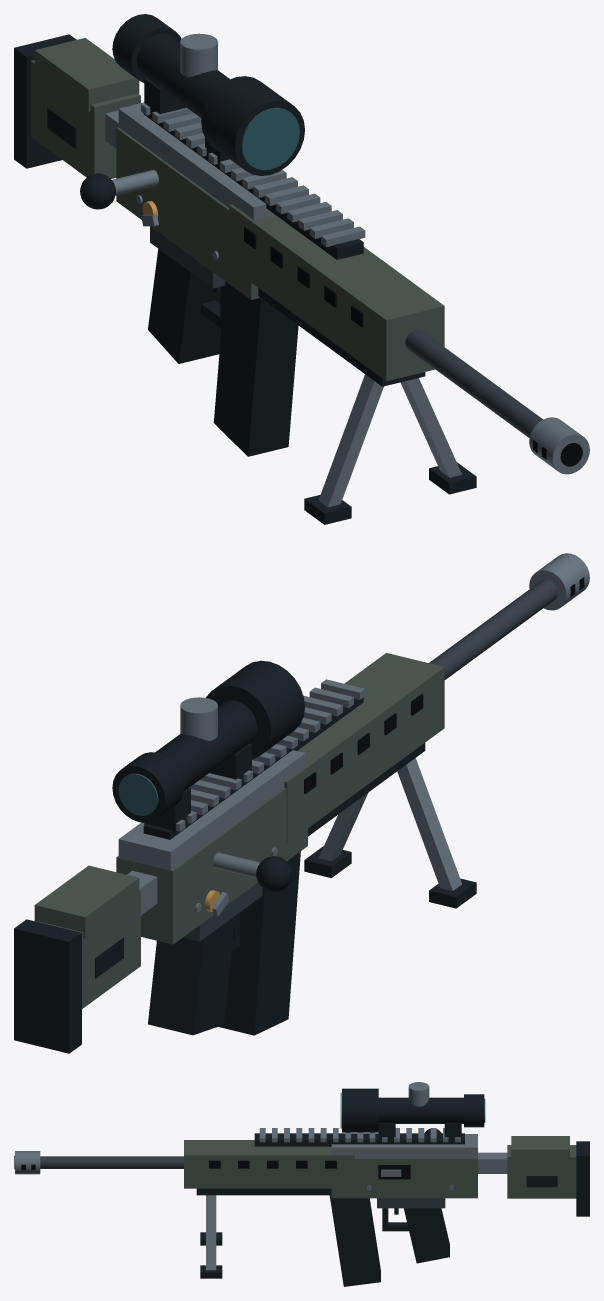
The model's file is FSA_WPN_SR_001_Longwatch.glb.
The picture shows the model from 3 angles, top to bottom: view 1: azimuth 30°, elevation 25°; view 2: azimuth 150°, elevation 25°; view 3: azimuth 270°, elevation 25°; orthographic projection. The views are drawn at different scales.
Parts seen in each view (by area): view 1: Handguard, MagazineBody, Receiver, GripCore, StockBody, ScopeObjective, StockCheek, UpperReceiver, Barrel, ScopeTube, BipodLeg_-1, ButtPad (+14 smaller); view 2: Handguard, Receiver, MagazineBody, ButtPad, GripCore, UpperReceiver, ScopeObjective, StockCheek, ScopeTube, StockBody, Barrel, BipodLeg_-1 (+15 smaller); view 3: Handguard, Receiver, MagazineBody, StockBody, ScopeTube, UpperReceiver, GripCore, Barrel, RailBase, ScopeObjective, StockCheek, HandguardUnder (+11 smaller).
Boxes of the visible parts, left/top/right/bottom form: Handguard: left=229, top=204, right=444, bottom=381; MagazineBody: left=213, top=281, right=298, bottom=456; Receiver: left=116, top=127, right=259, bottom=299; GripCore: left=148, top=249, right=221, bottom=363; StockBody: left=31, top=60, right=140, bottom=178; ScopeObjective: left=201, top=76, right=304, bottom=175; StockCheek: left=34, top=38, right=139, bottom=111; UpperReceiver: left=118, top=102, right=274, bottom=219; Barrel: left=405, top=329, right=542, bottom=437; ScopeTube: left=136, top=33, right=229, bottom=118; BipodLeg_-1: left=318, top=374, right=383, bottom=507; ButtPad: left=14, top=34, right=76, bottom=168; Handguard: left=284, top=653, right=444, bottom=843; Receiver: left=116, top=787, right=307, bottom=944; MagazineBody: left=218, top=851, right=300, bottom=1035; ButtPad: left=14, top=919, right=81, bottom=1053; GripCore: left=148, top=916, right=235, bottom=1035; UpperReceiver: left=118, top=750, right=305, bottom=870; ScopeObjective: left=206, top=660, right=304, bottom=759; StockCheek: left=34, top=865, right=139, bottom=939; ScopeTube: left=155, top=700, right=257, bottom=791; StockBody: left=36, top=890, right=140, bottom=1008; Barrel: left=429, top=579, right=557, bottom=679; BipodLeg_-1: left=397, top=758, right=461, bottom=890; Handguard: left=184, top=1140, right=354, bottom=1188; Receiver: left=331, top=1158, right=477, bottom=1198; MagazineBody: left=329, top=1195, right=380, bottom=1286; StockBody: left=507, top=1145, right=576, bottom=1198; ScopeTube: left=378, top=1097, right=463, bottom=1123; UpperReceiver: left=331, top=1134, right=477, bottom=1157; GripCore: left=404, top=1208, right=449, bottom=1263; Barrel: left=40, top=1156, right=183, bottom=1168; RailBase: left=254, top=1133, right=464, bottom=1146; ScopeObjective: left=342, top=1088, right=378, bottom=1132; StockCheek: left=511, top=1136, right=569, bottom=1161; HandguardUnder: left=196, top=1188, right=331, bottom=1195.
Size of the model in its own units: 0.2305 by 0.4409 by 1.18.
